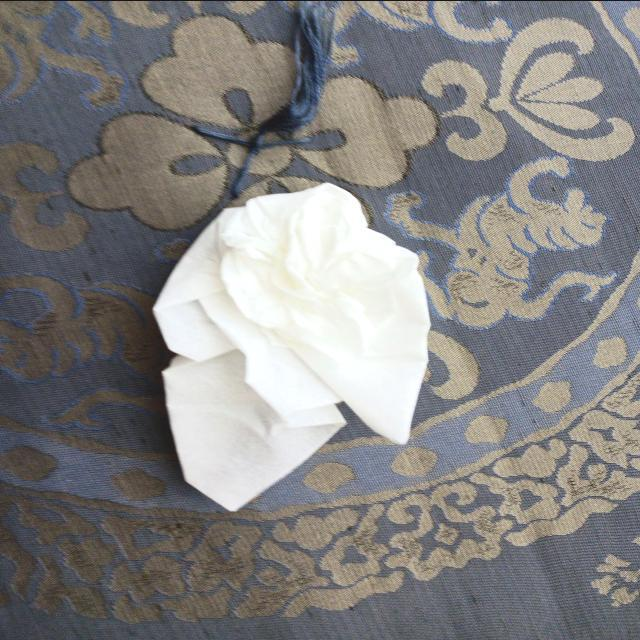Paper: (158, 178, 444, 512)
